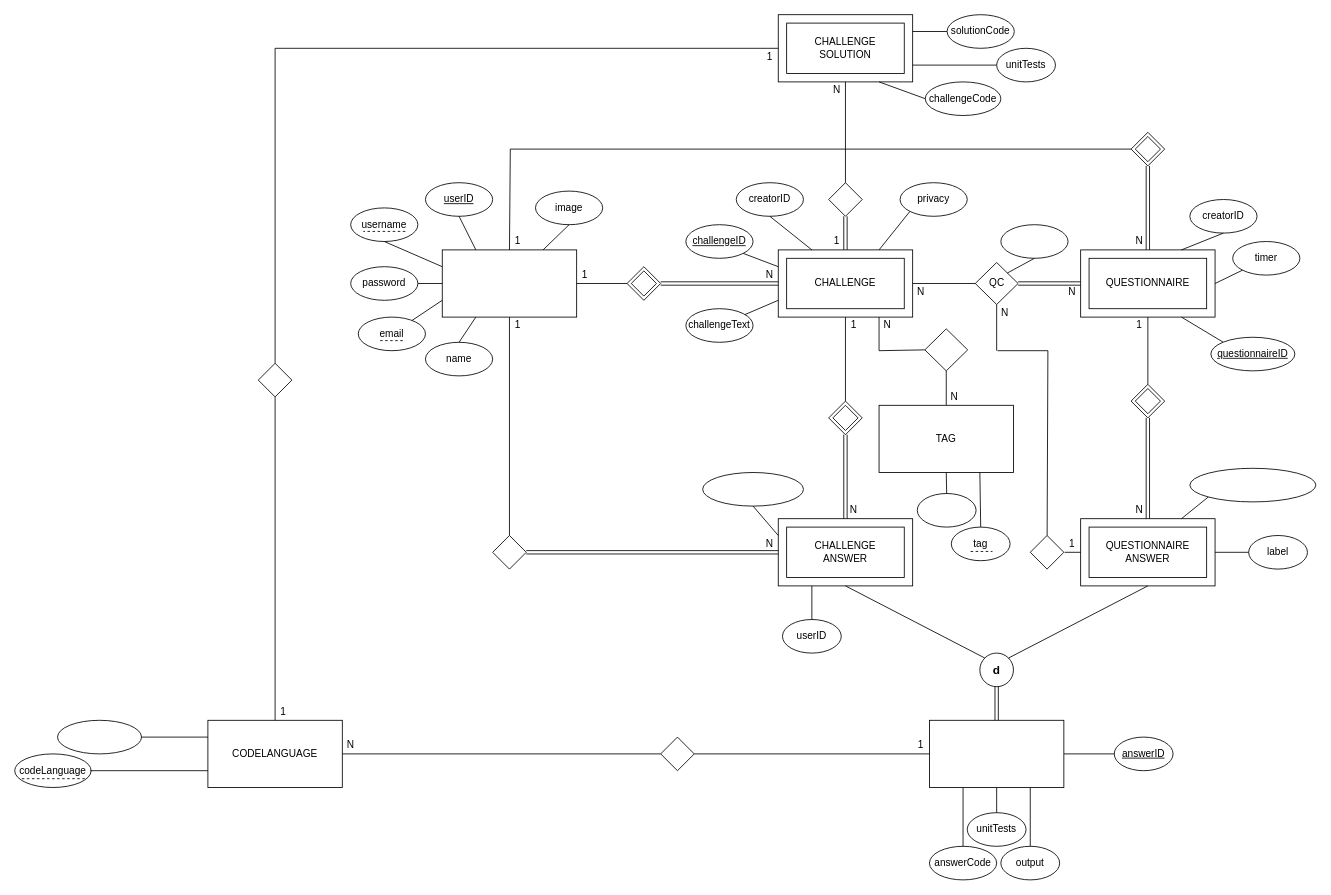
Image size: 1331x895. Some labels were removed from this diagram. The centre of each missing label's shape, as x and y in pixels:
ANSWER: (x=996, y=753)
challengeAnswerID: (x=752, y=489)
codeLanguageID: (x=99, y=736)
CT: (x=946, y=349)
langFilter: (x=1034, y=241)
questionnaireAnswerID: (x=1252, y=484)
tagID: (x=946, y=510)
USERS: (x=509, y=283)
